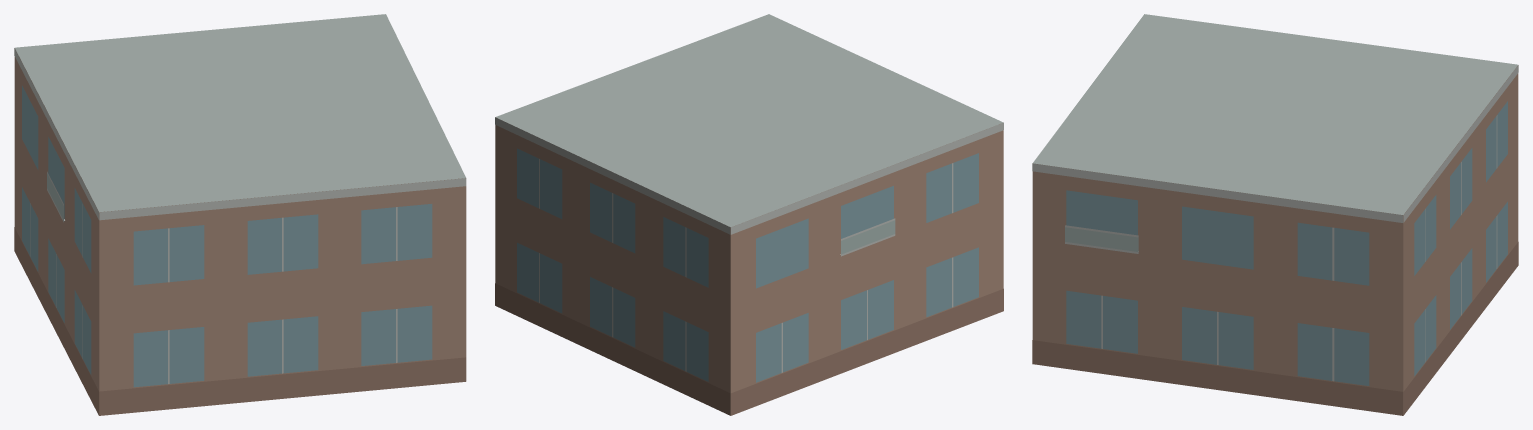
The model's file is survey-upis-32657342.glb.
The picture shows the model from 3 angles, left to right: view 1: azimuth 30°, elevation 25°; view 2: azimuth 150°, elevation 25°; view 3: azimuth 270°, elevation 25°; orthographic projection. The views are drawn at different scales.
Parts seen in each view (by area): view 1: survey-upis-32657342.tmp; view 2: survey-upis-32657342.tmp; view 3: survey-upis-32657342.tmp.
Boxes of the visible parts, x1,y1,x2,y2 form: survey-upis-32657342.tmp: (14,14,466,415); survey-upis-32657342.tmp: (495,14,1003,415); survey-upis-32657342.tmp: (1032,14,1518,415).
Size of the model in its own units: 13.12 by 6.1 by 13.4.
